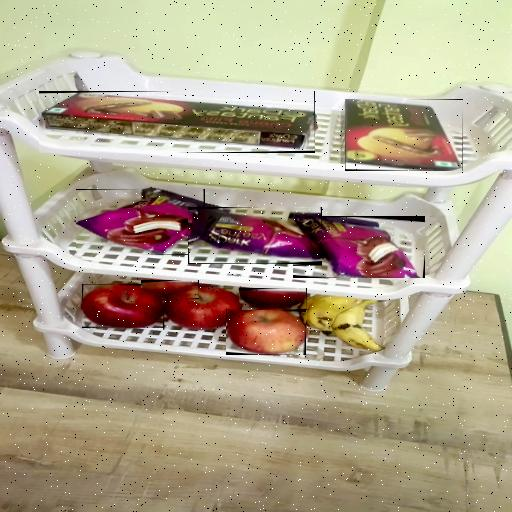Apple: (226, 309, 306, 355), (82, 284, 164, 328), (163, 286, 241, 330), (239, 288, 307, 310), (141, 280, 199, 299)
Choco Fills: (39, 91, 315, 153), (345, 99, 463, 171)
Choco Pie: (76, 189, 205, 255), (293, 216, 425, 278), (188, 207, 322, 264)
